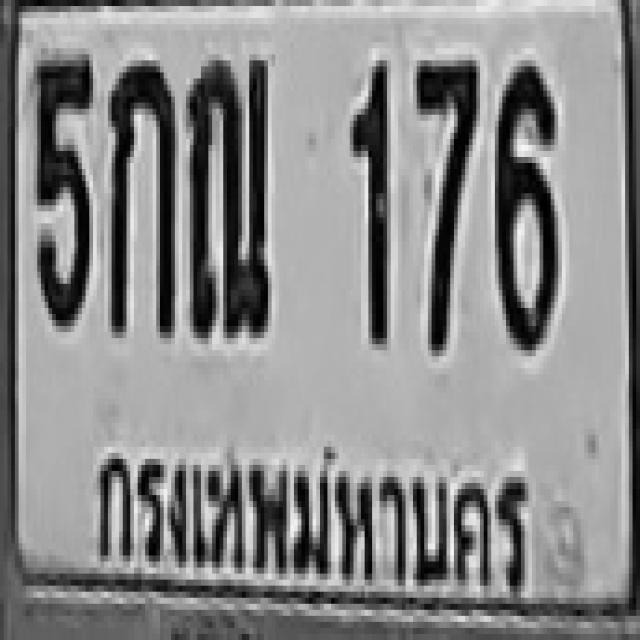1: (346, 57, 387, 341)
10GorGai: (108, 54, 171, 332)
28NorNen: (186, 54, 268, 332)
5: (34, 54, 90, 320)
6: (493, 61, 560, 350)
7: (413, 54, 476, 350)
Bangkok: (85, 430, 556, 610)
